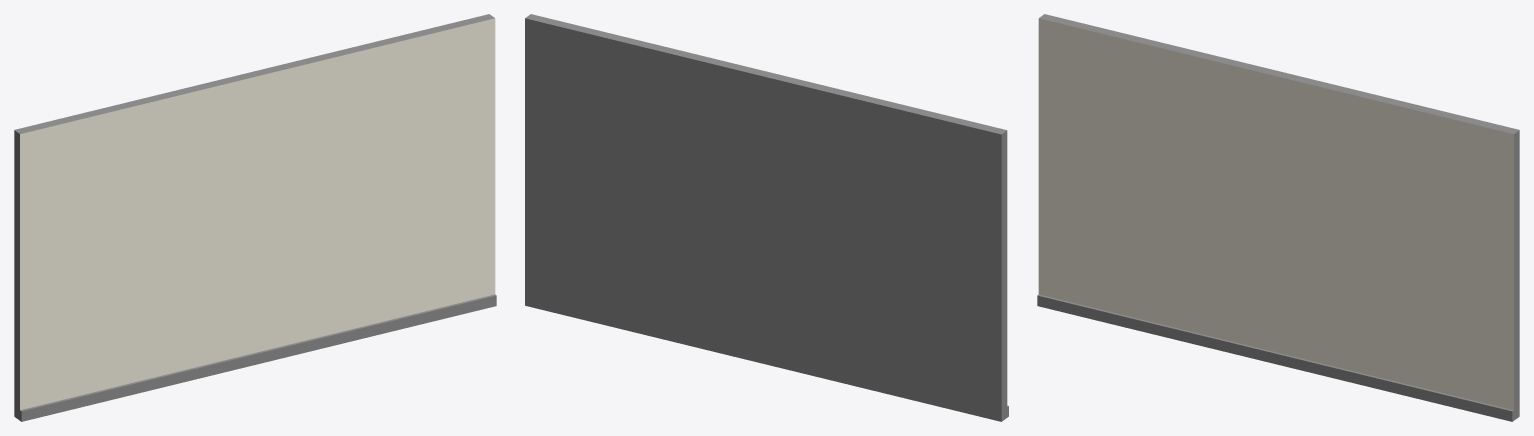
Rendered from Wall 1.FBX.
The picture shows the model from 3 angles, left to right: view 1: azimuth 30°, elevation 25°; view 2: azimuth 150°, elevation 25°; view 3: azimuth 330°, elevation 25°; orthographic projection.
Visible parts, largest first — view 1: Wall 1; view 2: Wall 1; view 3: Wall 1.
Part boxes in pixels (x1,y1,x2,y2): Wall 1: [14, 14, 496, 421]; Wall 1: [525, 14, 1008, 421]; Wall 1: [1037, 14, 1519, 421].
Bounding box in the file's own units: 418 × 241 × 11.22.
Materials: 2 (1 with a texture image).
